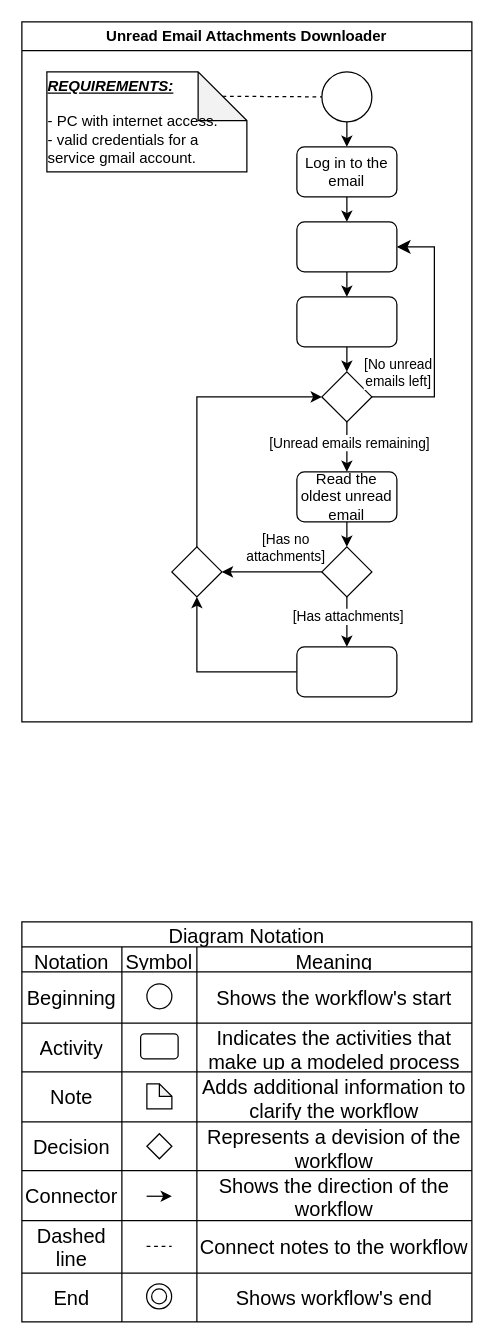
The diagram is 494 pixels wide and 1344 high, and some of its shapes have lost their labels. Here are the shapes that lost their labels. From the top down, the centre of each, then its label:
(346,246): Fetch emails
(346,321): Filter unread emails
(346,671): Download attachments
